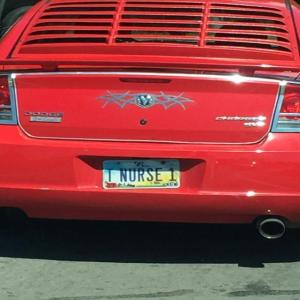Plate: (103, 159, 181, 190)
